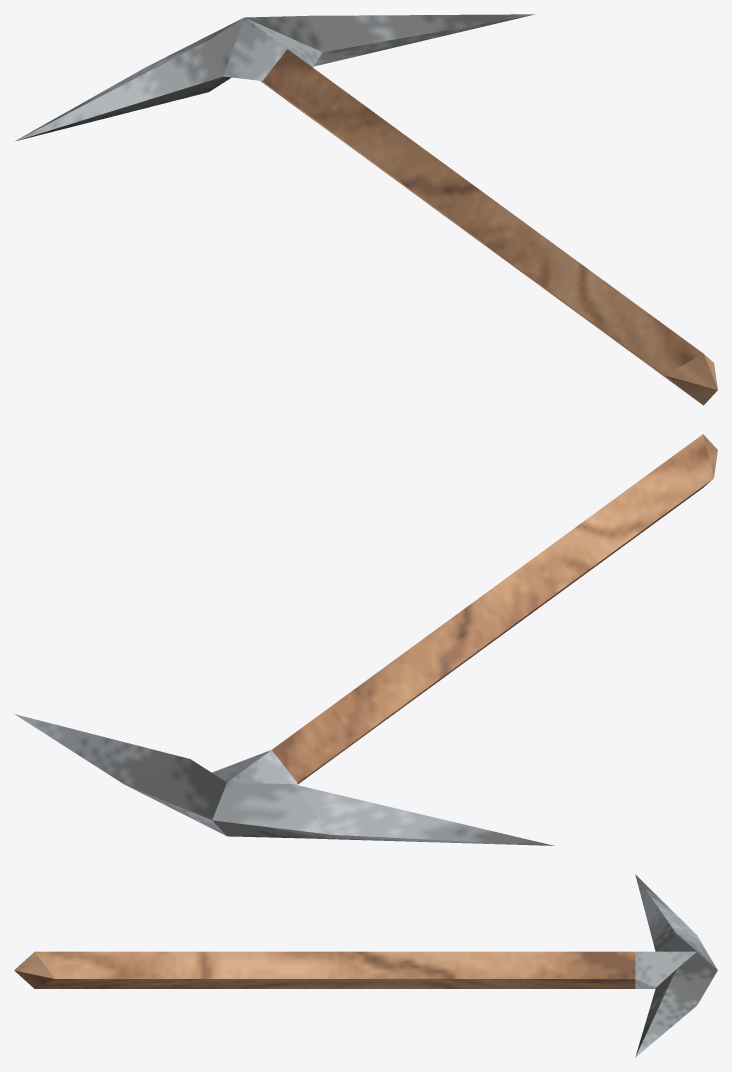
Rendered from Pickaxe.fbx.
3 views of the same model, one above another, from view 1: azimuth 30°, elevation 25°; view 2: azimuth 150°, elevation 25°; view 3: azimuth 270°, elevation 25° (orthographic). The views are drawn at different scales.
Visible parts, largest first — view 1: Pickaxe; view 2: Pickaxe; view 3: Pickaxe.
Boxes of the visible parts, x1,y1,x2,y2 form: Pickaxe: [15, 14, 717, 405]; Pickaxe: [14, 434, 717, 845]; Pickaxe: [14, 874, 717, 1057].
Bounding box in the file's own units: 210 × 20 × 340.
1 material, 1 textured.
